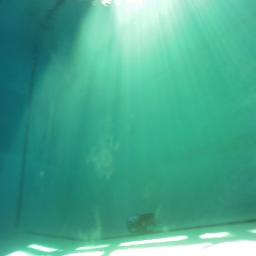front: (126, 211, 158, 236)
